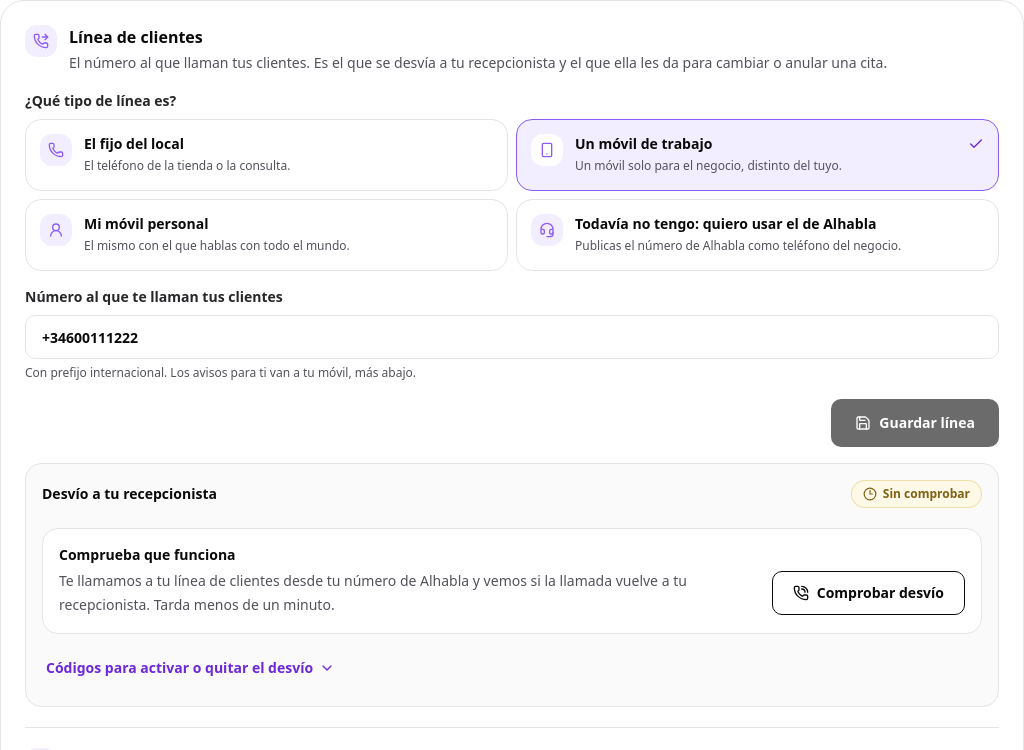
Test: AjustesTelefono › Línea de clientes › avisa si el tipo elegido a mano no cuadra con el número, sin bloquear
Step 1. Click the radio button labelled "El fijo del local El teléfono de la tienda o la consulta." → (266, 155), box [25,119,508,191]
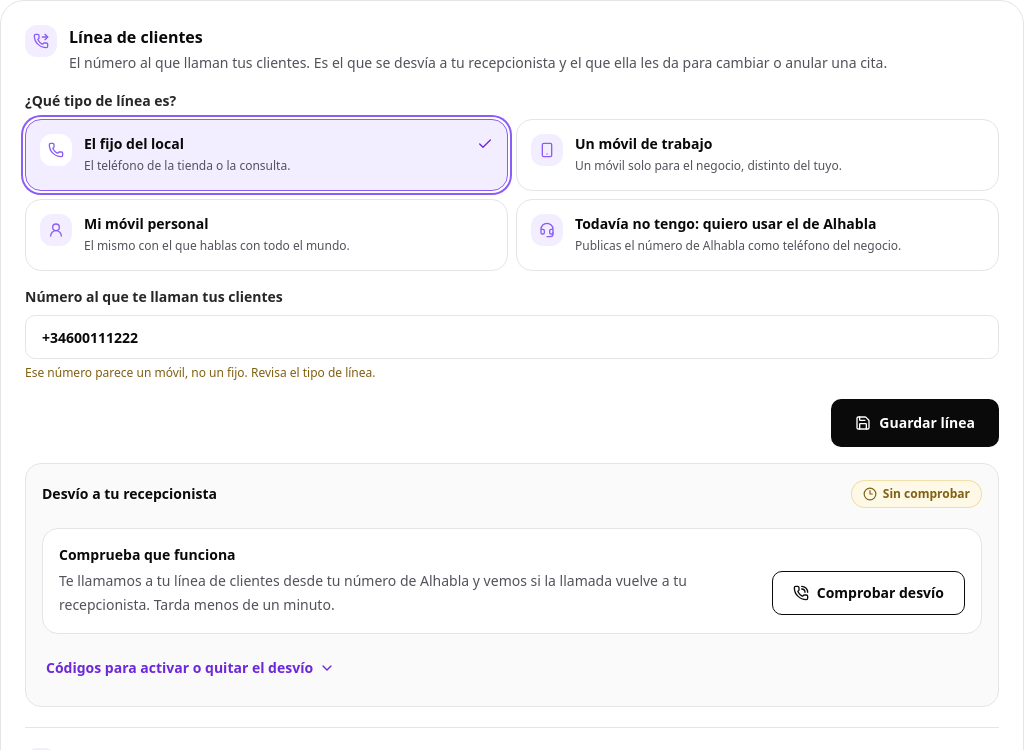
Check: the text "Ese número parece un móvil, no un fijo. Revisa el tipo de línea." is shown, box [25,364,376,381]
Check: the button "Guardar línea" is enabled, box [831,399,999,447]
